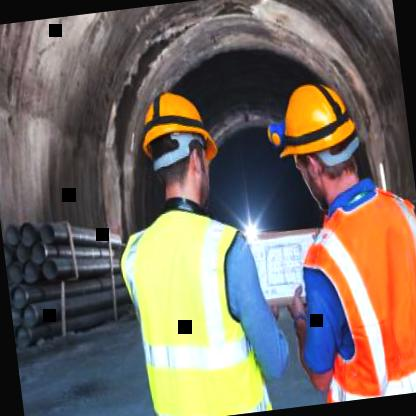helmet: (267, 68, 370, 216), (127, 79, 230, 222)
